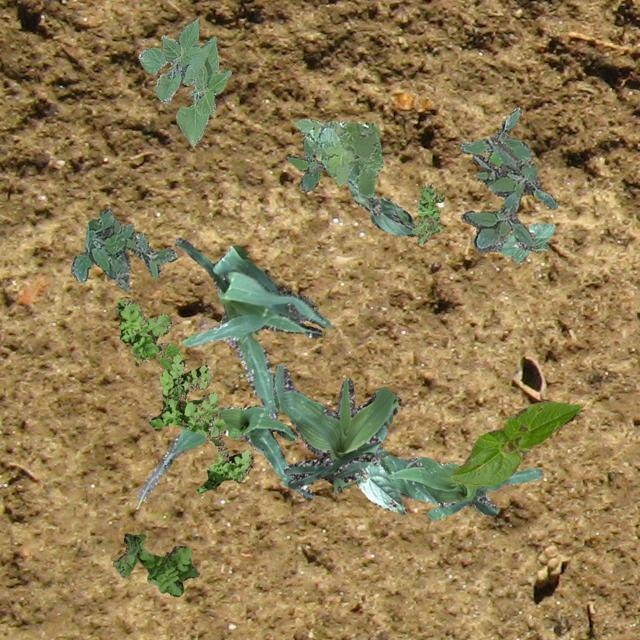crop: (174, 236, 330, 420), (136, 404, 312, 504), (272, 364, 399, 492), (372, 446, 542, 518), (137, 16, 230, 146), (450, 400, 580, 484), (348, 182, 414, 236), (354, 458, 406, 514), (491, 222, 554, 264)
weed: (115, 296, 252, 492), (461, 136, 556, 252), (70, 207, 176, 290), (294, 118, 382, 196), (111, 532, 198, 596), (458, 106, 532, 166), (286, 137, 330, 190), (411, 182, 444, 245)
